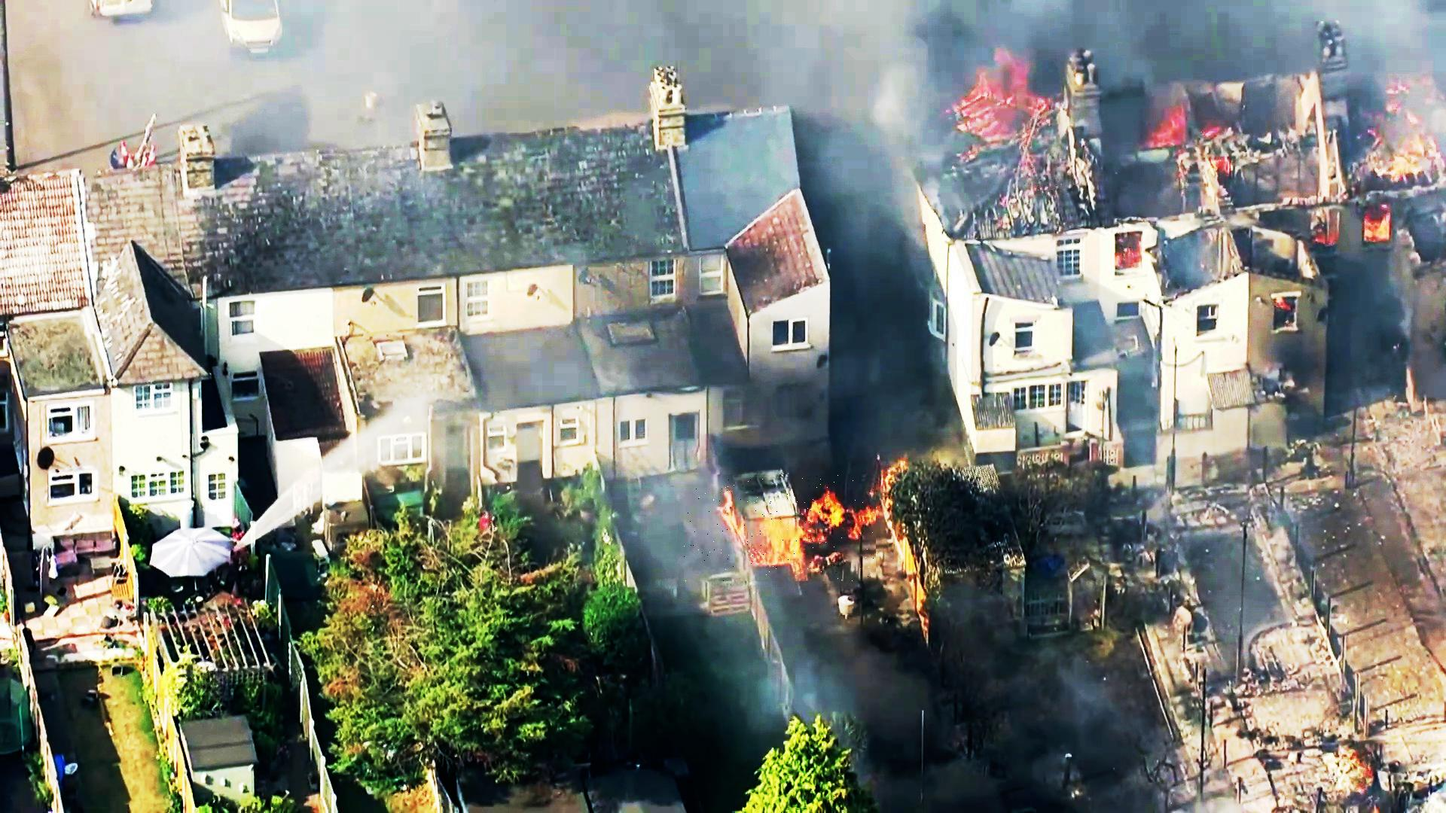fire: (684, 475, 878, 581)
